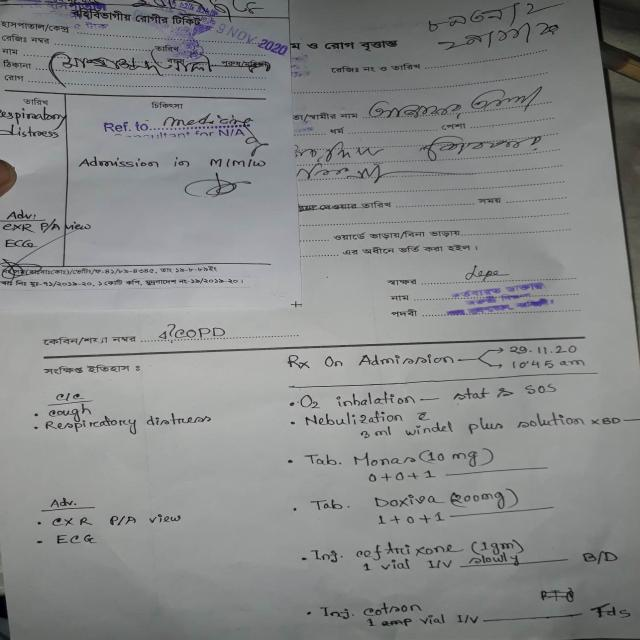Ceftriaxone: (348, 539, 461, 560)
Cotson: (354, 600, 426, 618)
Doxiva: (370, 491, 447, 510)
Monas: (347, 450, 420, 468)
Nebulization: (298, 411, 439, 427)
O2 Inhalation: (295, 391, 423, 408)
